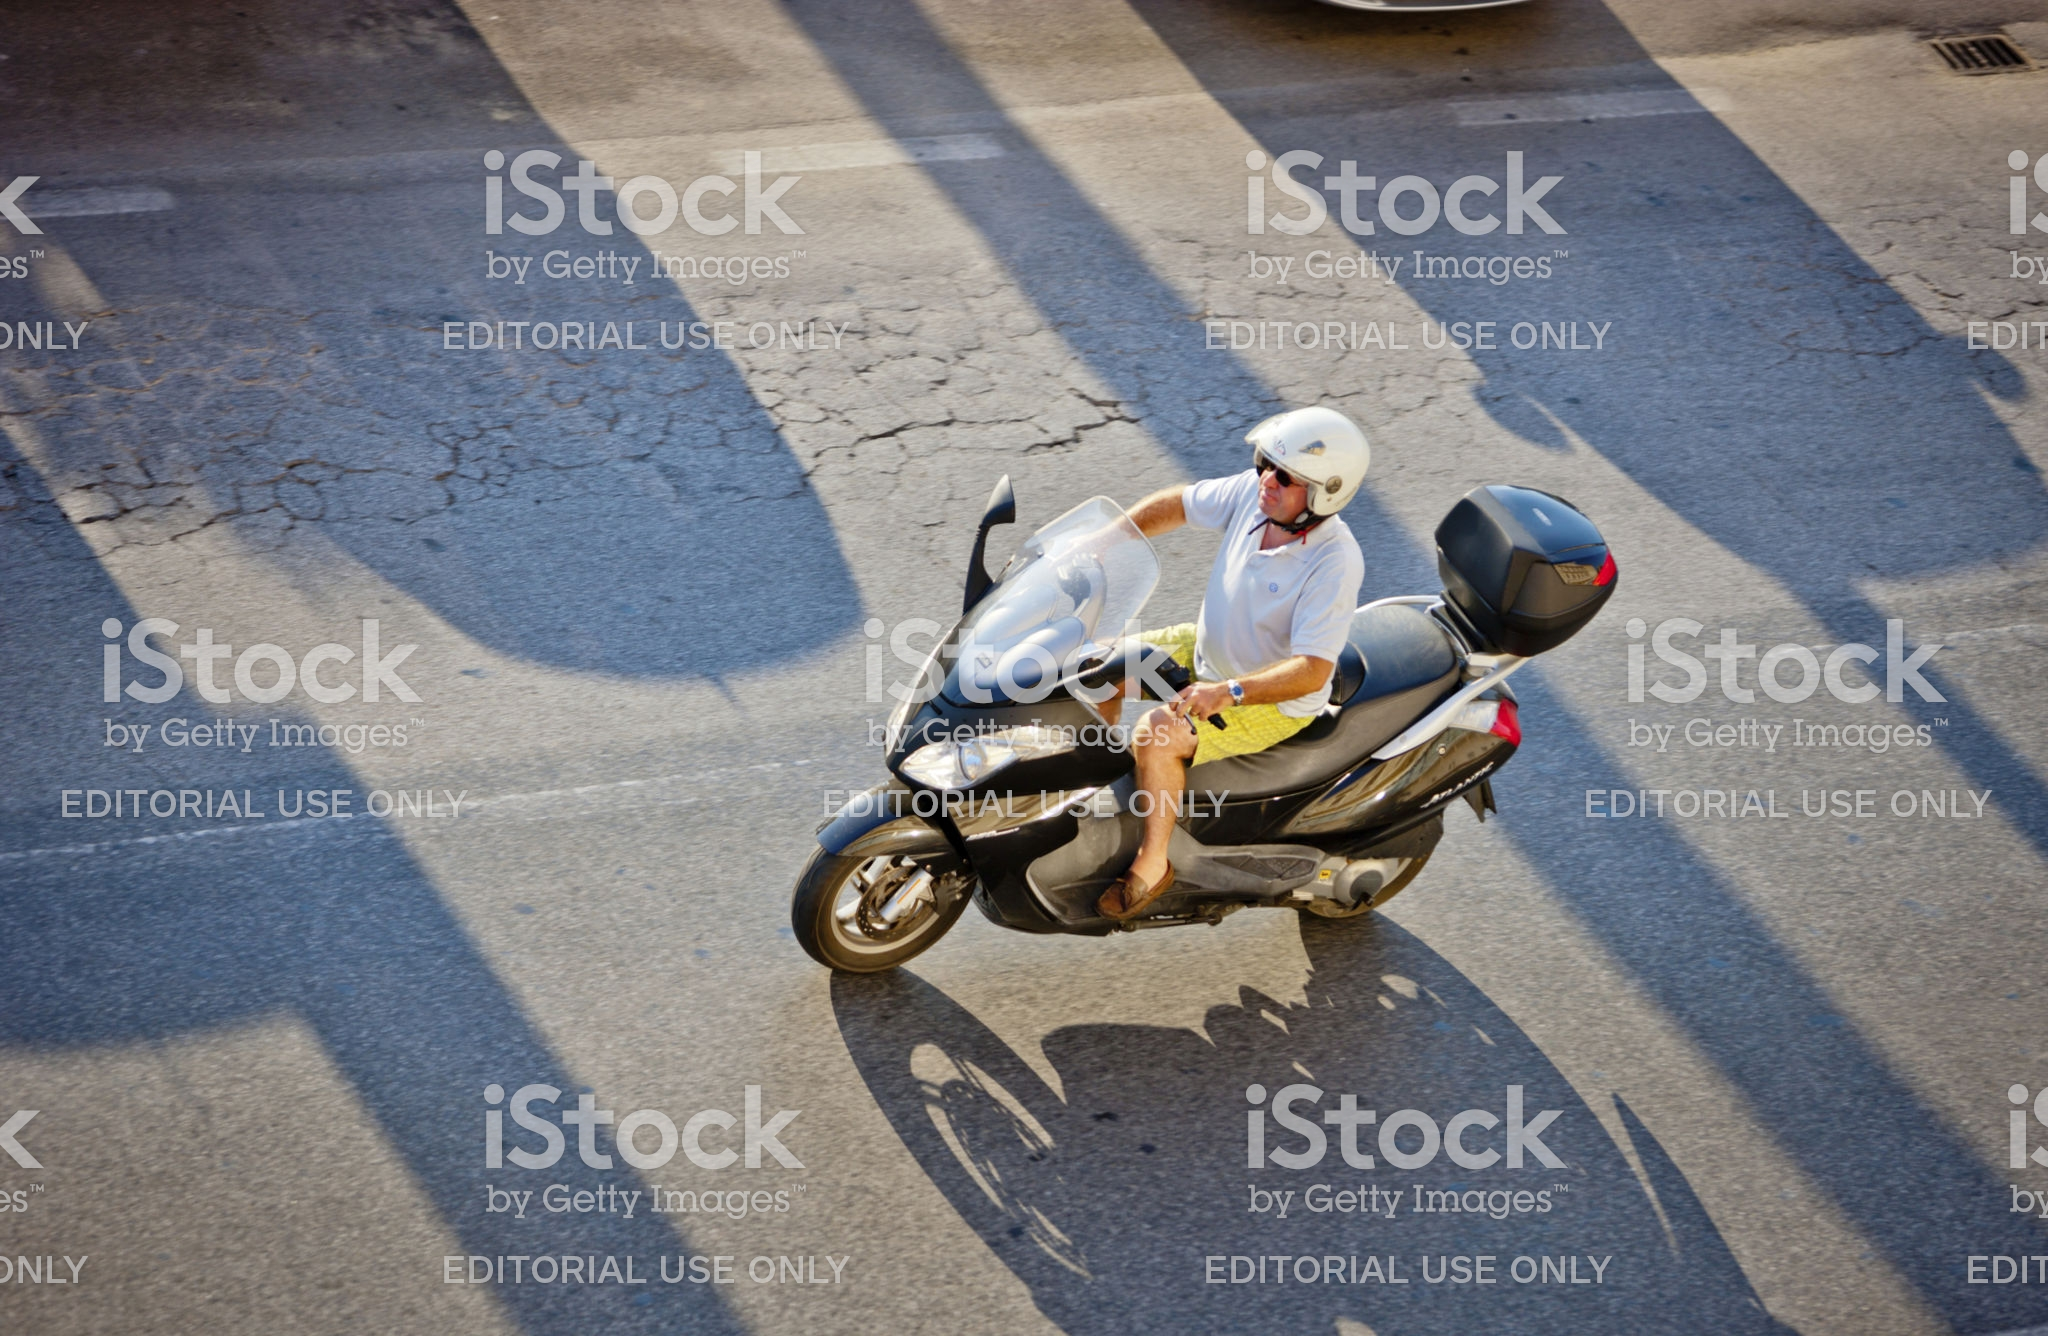helmet: (1260, 402, 1370, 497)
